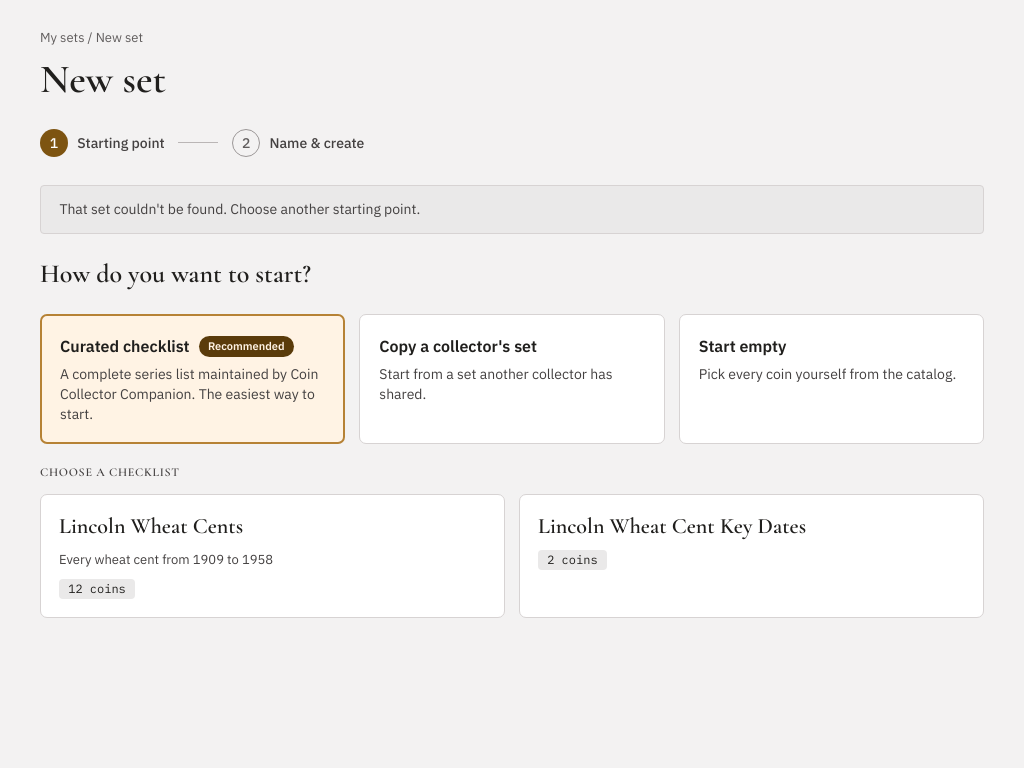
Test: NewSetPage › criterion 4: unknown or missing source id › clears the note when another source is picked and the cancel link then goes to the dashboard
Expected: the text "That set couldn't be found. Choose another starting point." is shown, x1=40 y1=184 x2=984 y2=234
Click the button with test id "set-new-canonical-card" at (272,556), box x1=40 y1=494 x2=505 y2=618
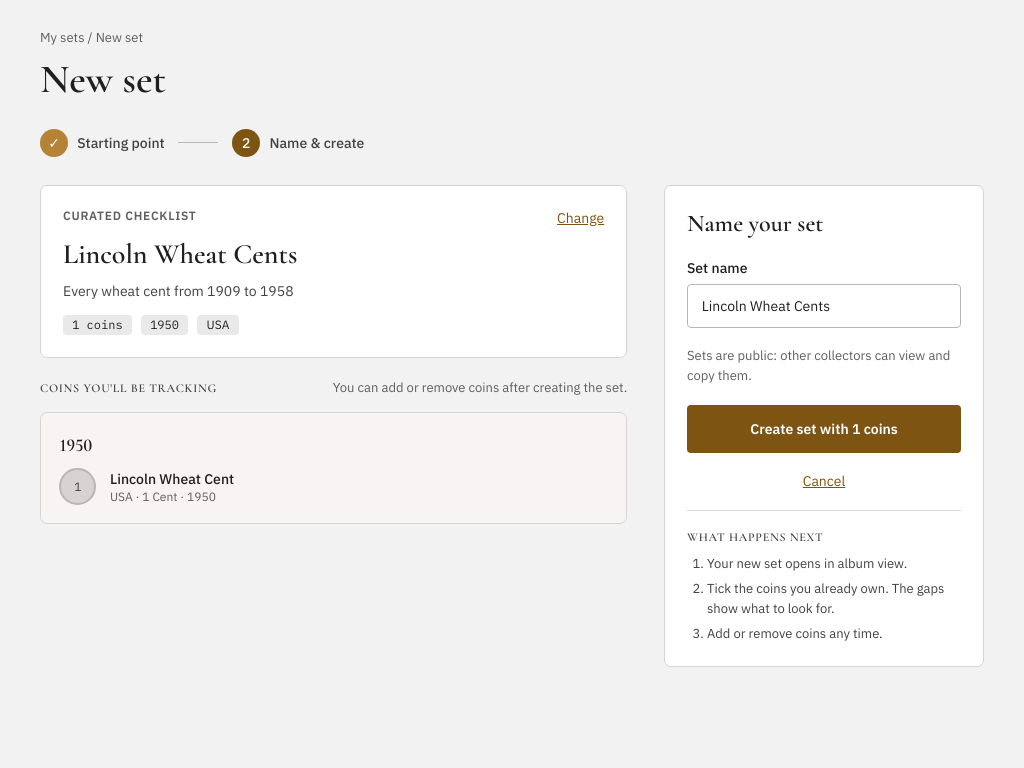
Expected: the element with test id "set-new-step-2" is shown, x1=40 y1=184 x2=984 y2=667
Expected: the text with test id "set-new-not-found" is gone
